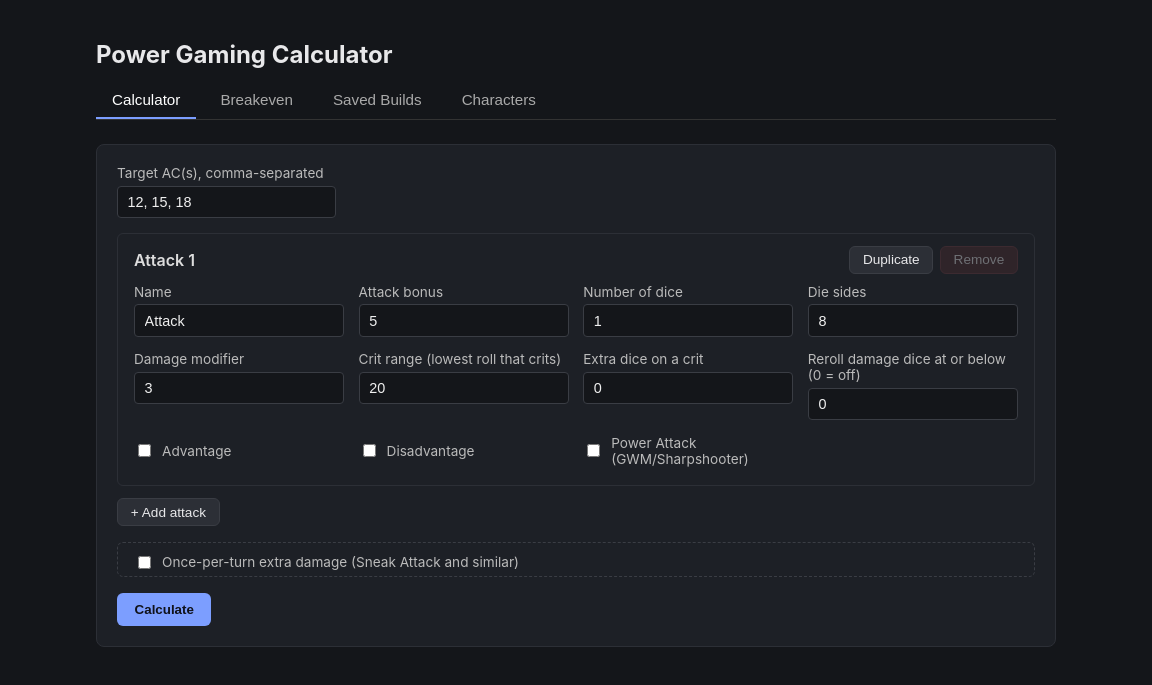
Test: App › has a Characters tab and shows the SRD attribution
Click the button "Characters" at (499, 100), box [446,81,552,119]
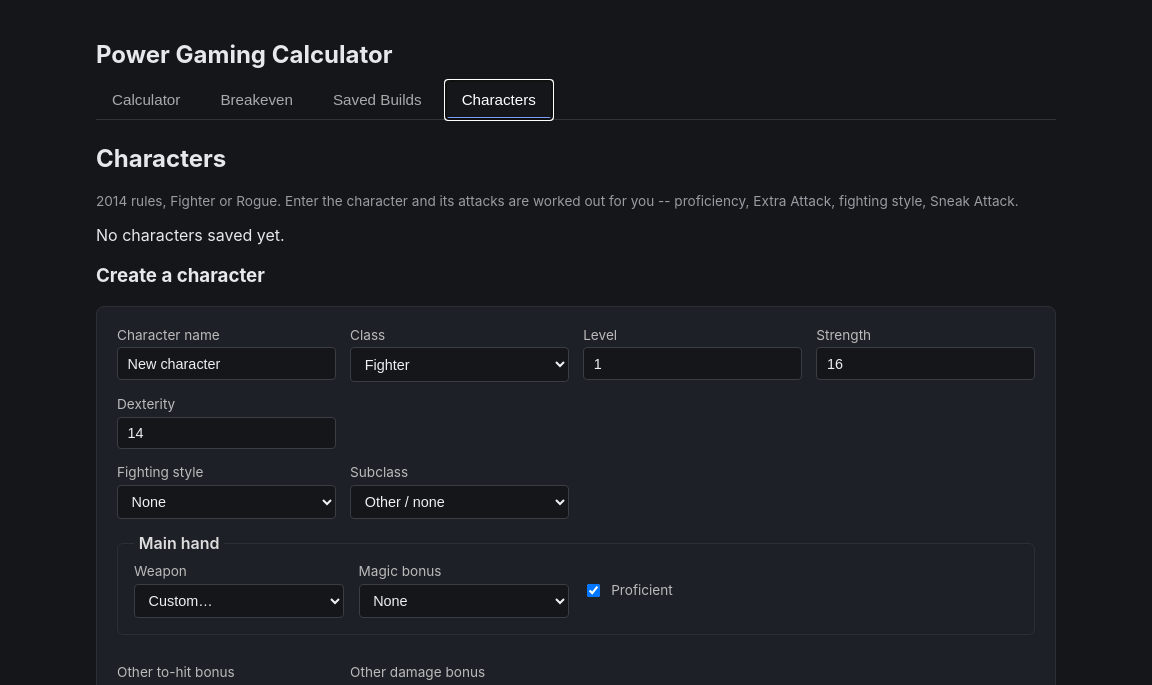
Expected: the text "No characters saved yet." is shown, [96,225,285,245]
